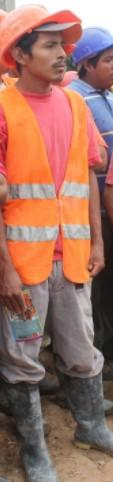boots: (4, 383, 113, 480)
hat: (3, 6, 82, 48)
low quality vest: (2, 85, 96, 262)
no protective face gear: (27, 33, 72, 86)
